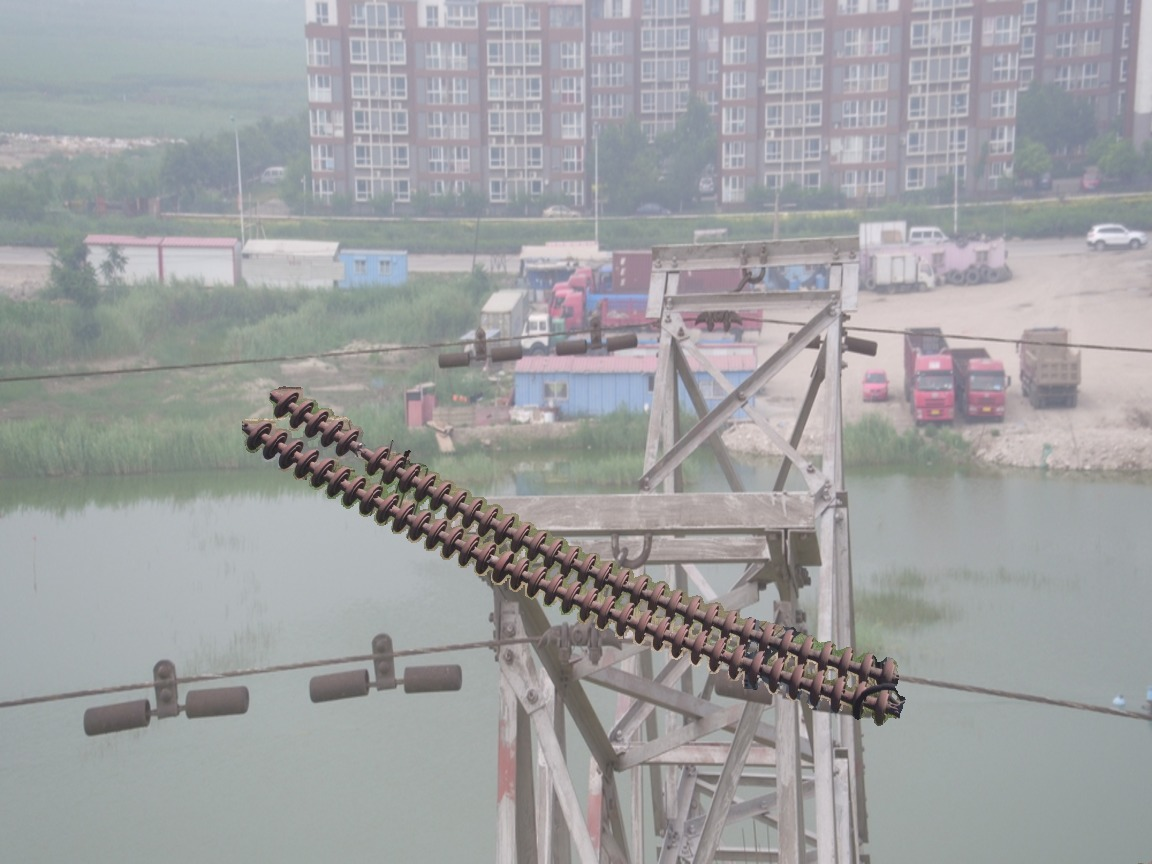defect: (334, 427, 394, 478)
